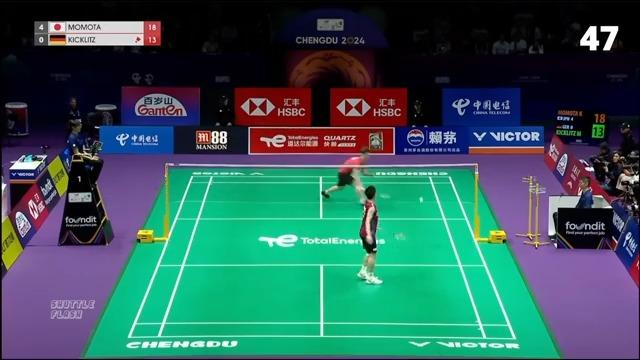Shuttlecock: (416, 195, 426, 204)
